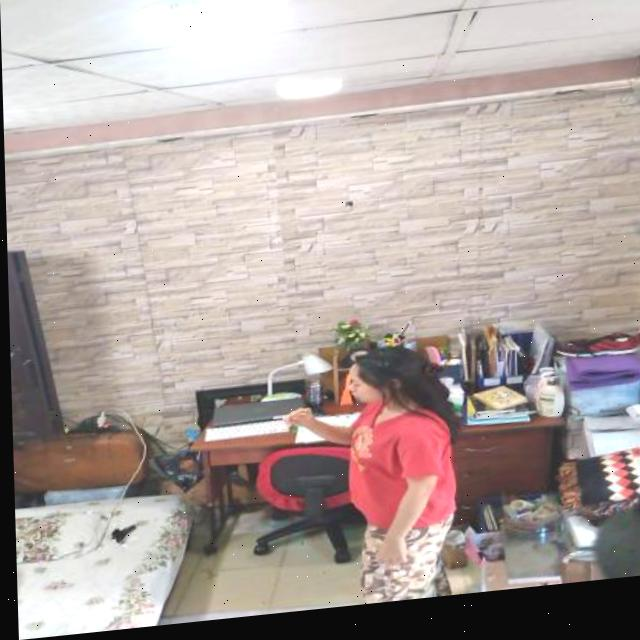cigarette: (268, 419, 303, 426)
